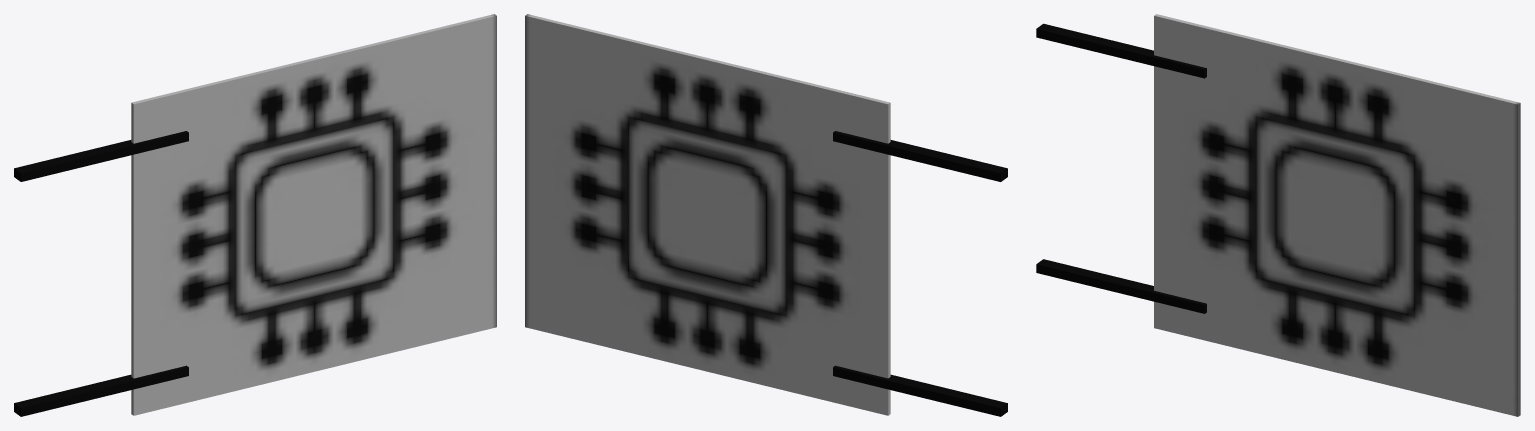
Rendered from Poster5.glb.
3 views of the same model, side by side, from view 1: azimuth 30°, elevation 25°; view 2: azimuth 150°, elevation 25°; view 3: azimuth 330°, elevation 25° (orthographic).
Parts seen in each view (by area): view 1: p5; view 2: p5; view 3: p5.
Boxes of the visible parts, x1=… form: p5: x1=14, y1=14, x2=496, y2=416; p5: x1=525, y1=14, x2=1007, y2=416; p5: x1=1036, y1=14, x2=1520, y2=416.
Bounding box in the file's own units: 1 × 0.6233 × 0.0254.
Materials: 1 (1 with a texture image).
